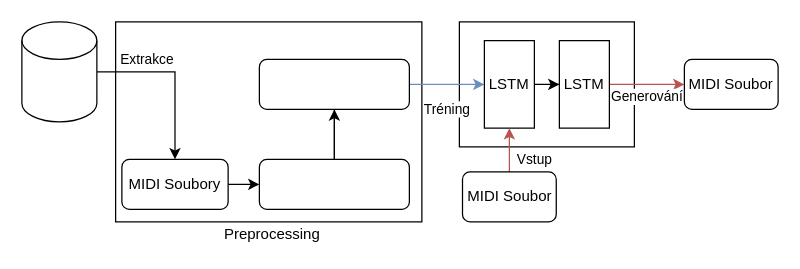
The diagram is 800 pixels wide and 269 high, and some of its shapes have lost their labels. The shapes that lost their labels are listed below. From the top down, each one's centre as x and y in pixels, then its label:
point 59,71: SQLite databáze
point 333,83: Sequence Examples
point 333,183: NoteSequences
